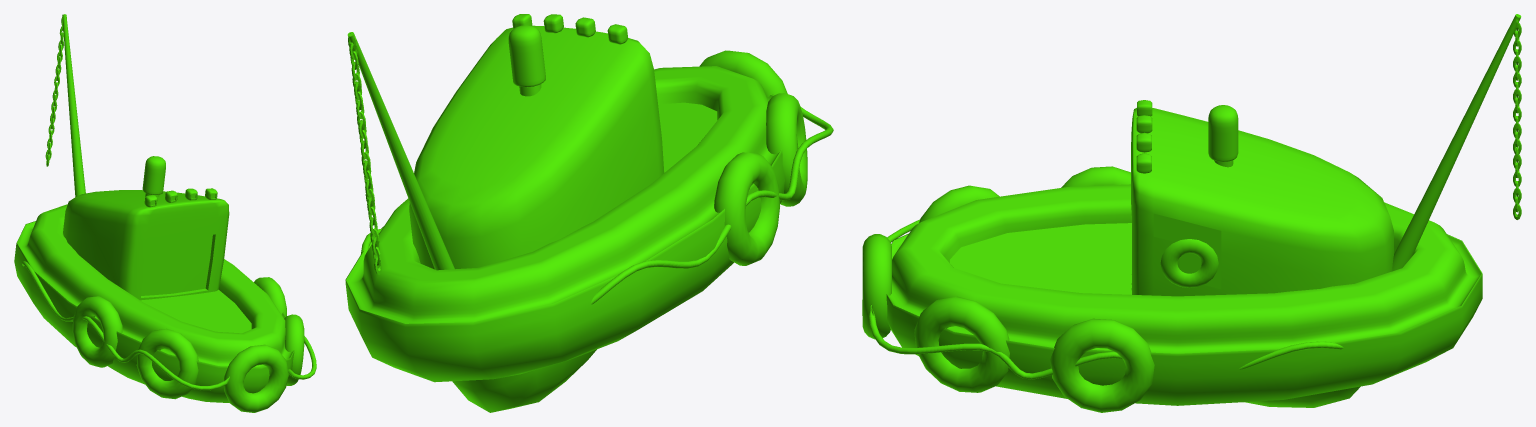
The model's file is Ship_Animation_Test.fbx.
3 views of the same model, side by side, from view 1: azimuth 30°, elevation 25°; view 2: azimuth 150°, elevation 25°; view 3: azimuth 270°, elevation 25° (orthographic). The views are drawn at different scales.
Visible parts, largest first — view 1: Ship_B; view 2: Ship_B; view 3: Ship_B.
Boxes of the visible parts, left/top/right/bottom form: Ship_B: left=14, top=14, right=316, bottom=412; Ship_B: left=345, top=14, right=833, bottom=412; Ship_B: left=862, top=14, right=1521, bottom=412.
Bounding box in the file's own units: 140 × 193 × 282.
